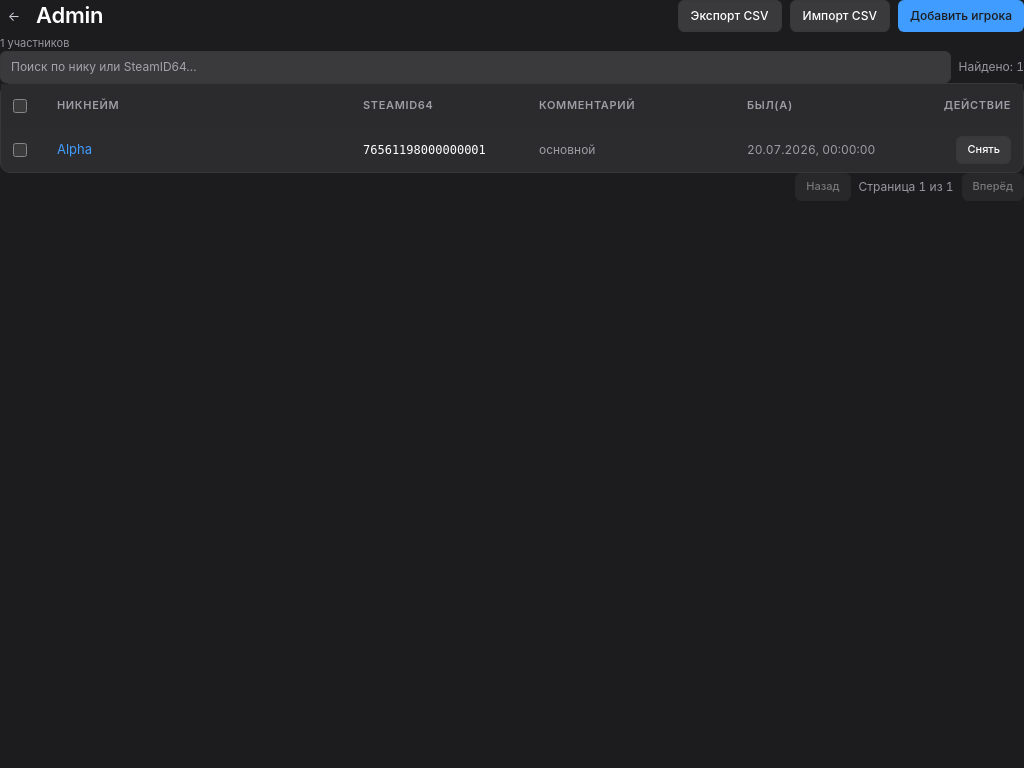
Test case: MembersPage › opens the CSV import modal and posts the textarea contents
Check: the link "Alpha" is shown, box [57,141,92,157]
Click the button "Импорт CSV" at {"x": 840, "y": 16}, box [790,0,890,32]
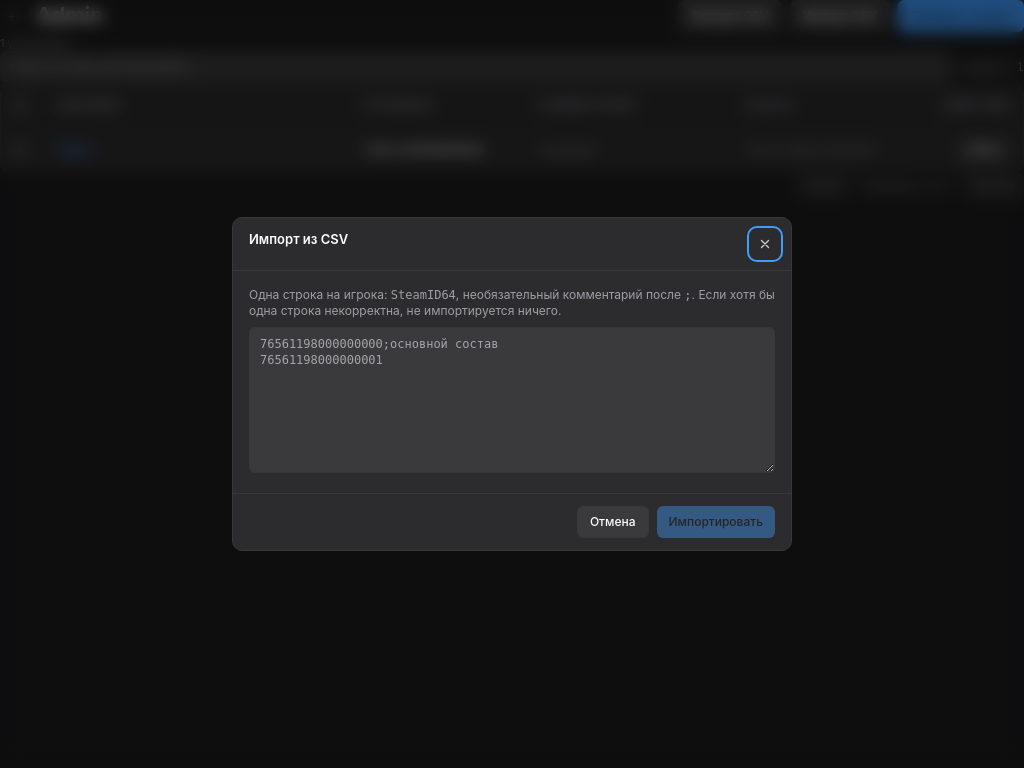
Type "76561198000000005;новый" into the text box with test id "import-textarea" at {"x": 512, "y": 400}, box [249,327,775,473]
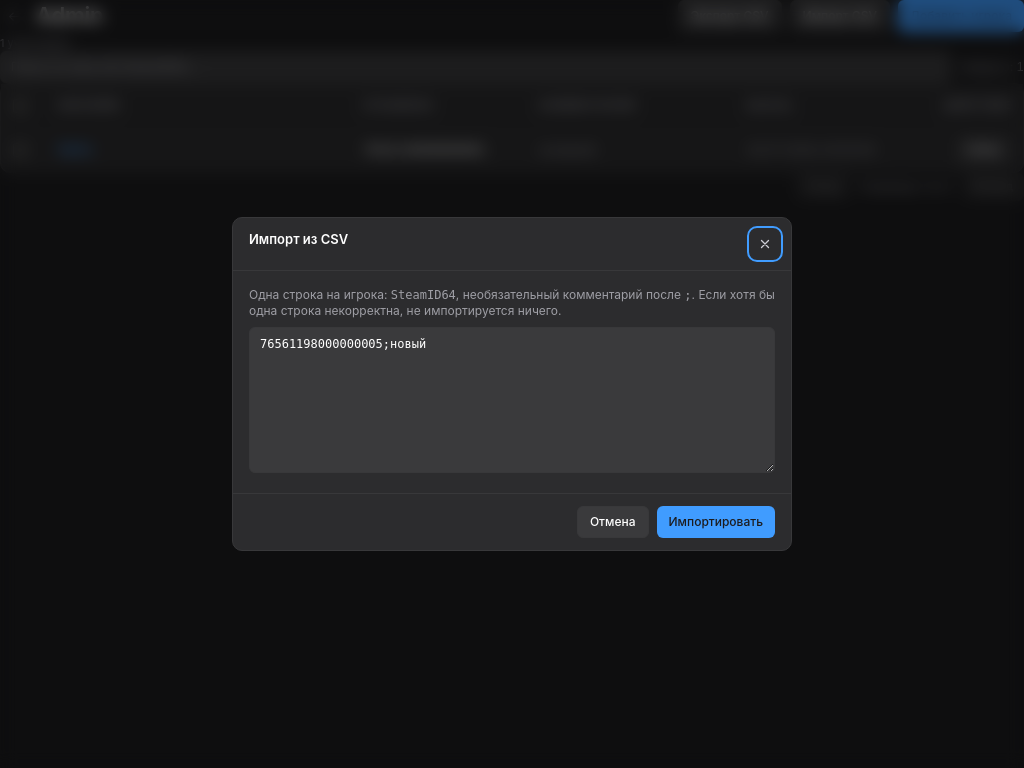
Click the button "Импортировать" at {"x": 716, "y": 522}, box [656,506,775,538]
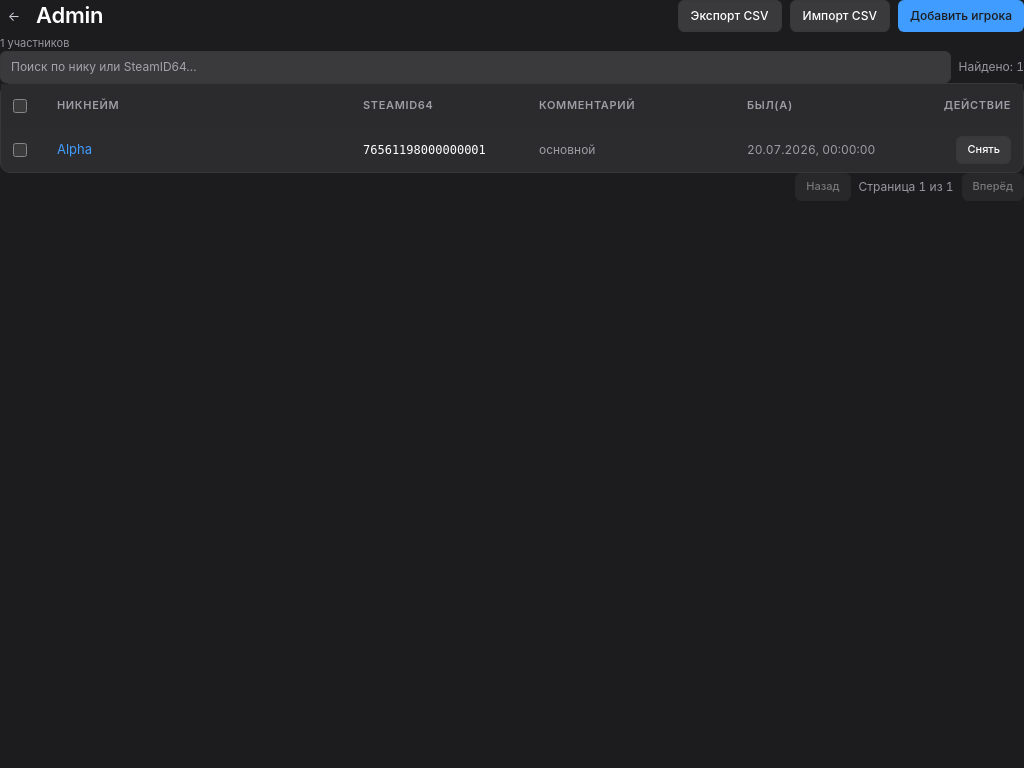
Check: the element with test id "import-modal" is gone
